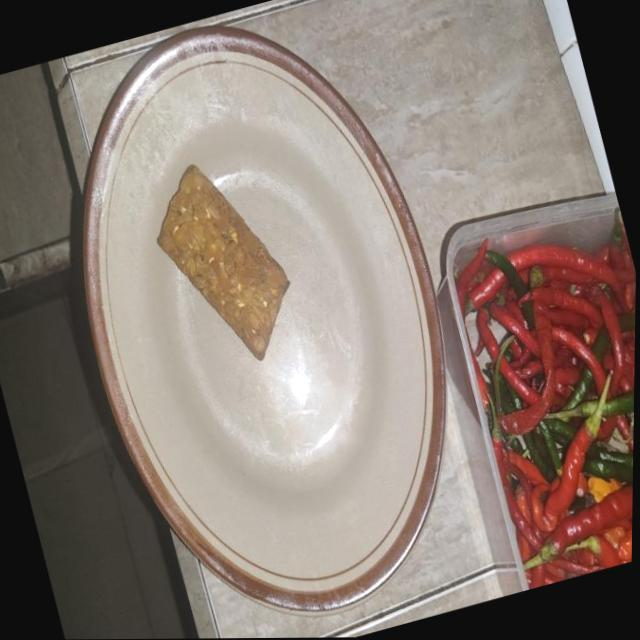tempe_goreng: (158, 164, 288, 358)
